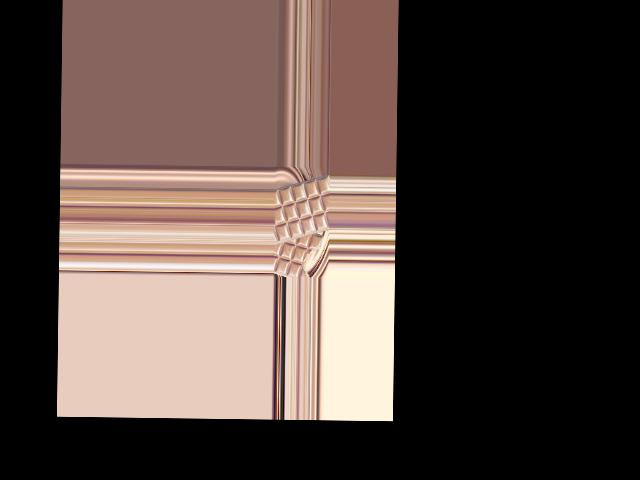chocolate: (273, 173, 328, 246)
